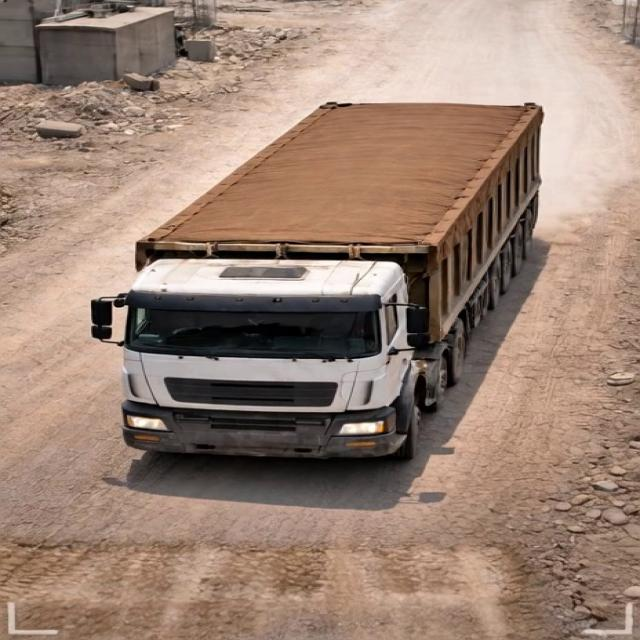Box: (126, 98, 545, 268)
Truck: (84, 91, 604, 455)
